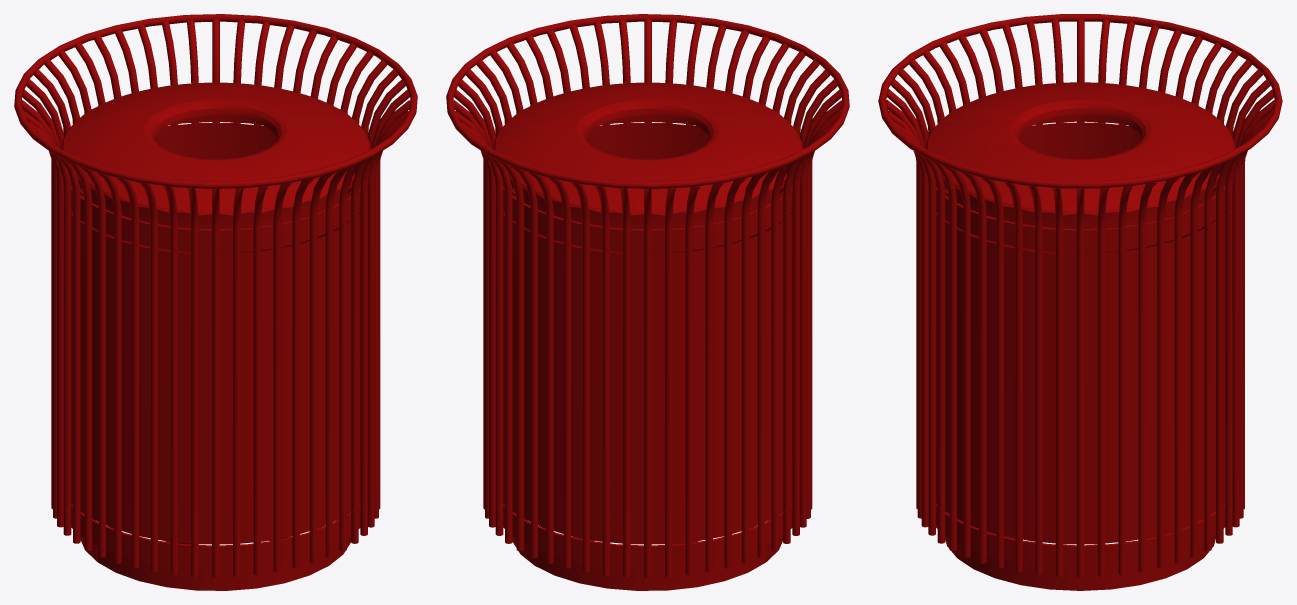
3 renders of one model, left to right at view 1: azimuth 30°, elevation 25°; view 2: azimuth 150°, elevation 25°; view 3: azimuth 270°, elevation 25°, orthographic.
Visible parts, largest first — view 1: mesh1_mesh1-geometry, mesh28_mesh28-geometry, mesh4_mesh4-geometry, mesh48_mesh48-geometry, mesh33_mesh33-geometry, mesh46_mesh46-geometry; view 2: mesh1_mesh1-geometry, mesh28_mesh28-geometry, mesh4_mesh4-geometry, mesh48_mesh48-geometry, mesh33_mesh33-geometry, mesh46_mesh46-geometry; view 3: mesh1_mesh1-geometry, mesh28_mesh28-geometry, mesh4_mesh4-geometry, mesh48_mesh48-geometry, mesh33_mesh33-geometry, mesh46_mesh46-geometry.
Part boxes in pixels (x1,y1,x2,y2): mesh1_mesh1-geometry: (21,19,409,577); mesh28_mesh28-geometry: (71,123,360,544); mesh4_mesh4-geometry: (61,82,370,228); mesh48_mesh48-geometry: (71,115,360,568); mesh33_mesh33-geometry: (14,14,417,188); mesh46_mesh46-geometry: (80,536,350,590); mesh1_mesh1-geometry: (454,19,842,577); mesh28_mesh28-geometry: (503,123,792,544); mesh4_mesh4-geometry: (493,82,802,228); mesh48_mesh48-geometry: (503,115,792,568); mesh33_mesh33-geometry: (446,14,849,188); mesh46_mesh46-geometry: (512,536,782,590); mesh1_mesh1-geometry: (886,18,1274,577); mesh28_mesh28-geometry: (936,122,1225,544); mesh4_mesh4-geometry: (925,82,1235,228); mesh48_mesh48-geometry: (936,115,1225,568); mesh33_mesh33-geometry: (878,14,1282,188); mesh46_mesh46-geometry: (945,536,1215,590).
Size of the model in its own units: 0.5398 by 0.644 by 0.5421.
